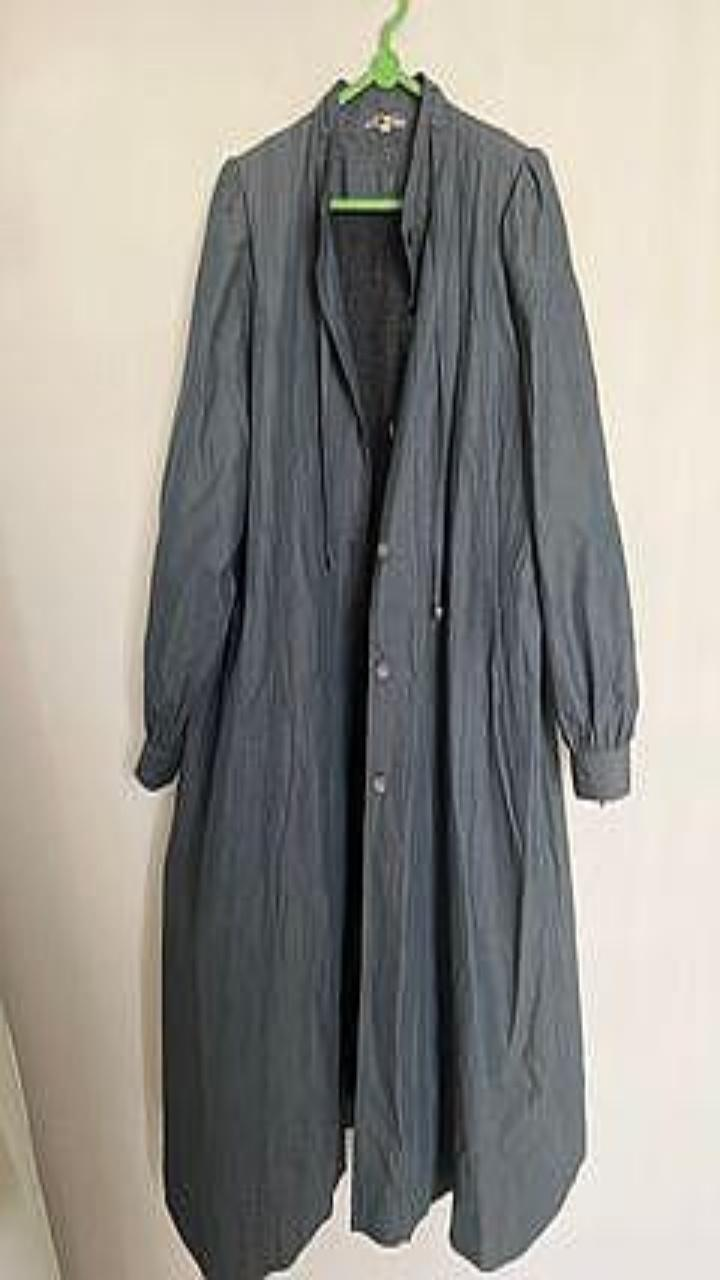Coat: (135, 73, 637, 1279)
